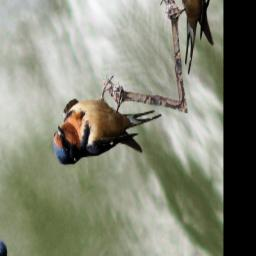Swallow: (41, 37, 163, 217)
